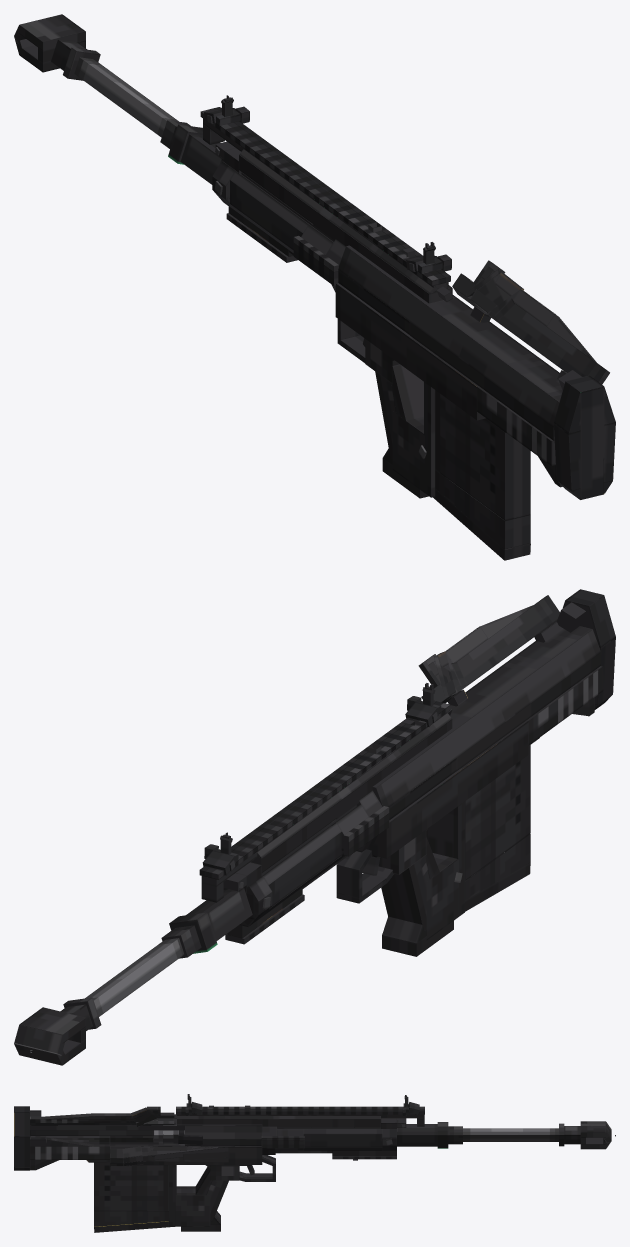
The model's file is gm6lynx.fbx.
3 renders of one model, top to bottom at view 1: azimuth 30°, elevation 25°; view 2: azimuth 150°, elevation 25°; view 3: azimuth 270°, elevation 25°, orthographic. The views are drawn at different scales.
Visible parts, largest first — view 1: gun, magazine, actioncover, barrel, ironsights; view 2: gun, magazine, barrel, actioncover, ironsights; view 3: gun, magazine, barrel, actioncover, ironsights, action, action2.
Boxes of the visible parts, bbox=[...] form: gun: bbox=[160, 107, 615, 499]; magazine: bbox=[433, 367, 530, 560]; actioncover: bbox=[452, 260, 609, 384]; barrel: bbox=[14, 14, 178, 137]; ironsights: bbox=[204, 95, 451, 274]; gun: bbox=[161, 589, 615, 958]; magazine: bbox=[436, 745, 530, 911]; barrel: bbox=[14, 938, 184, 1065]; actioncover: bbox=[418, 595, 559, 703]; ironsights: bbox=[202, 683, 441, 875]; gun: bbox=[14, 1106, 462, 1231]; magazine: bbox=[94, 1162, 174, 1232]; barrel: bbox=[463, 1121, 611, 1149]; actioncover: bbox=[30, 1106, 174, 1126]; ironsights: bbox=[185, 1094, 419, 1115]; action: bbox=[154, 1125, 184, 1143]; action2: bbox=[178, 1130, 202, 1144].
Bounding box in the file's own units: 54.7 × 174 × 705.
